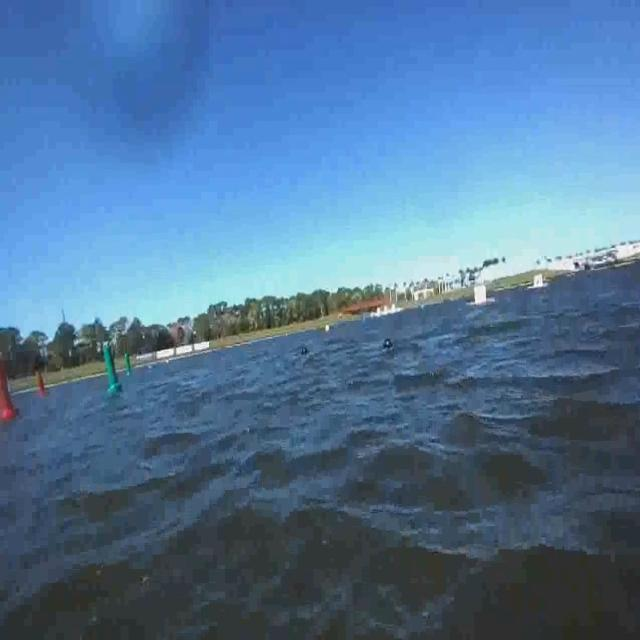green-column-buoy: (103, 344, 123, 394), (123, 348, 131, 382)
red-column-buoy: (0, 356, 19, 422), (35, 367, 50, 402)
